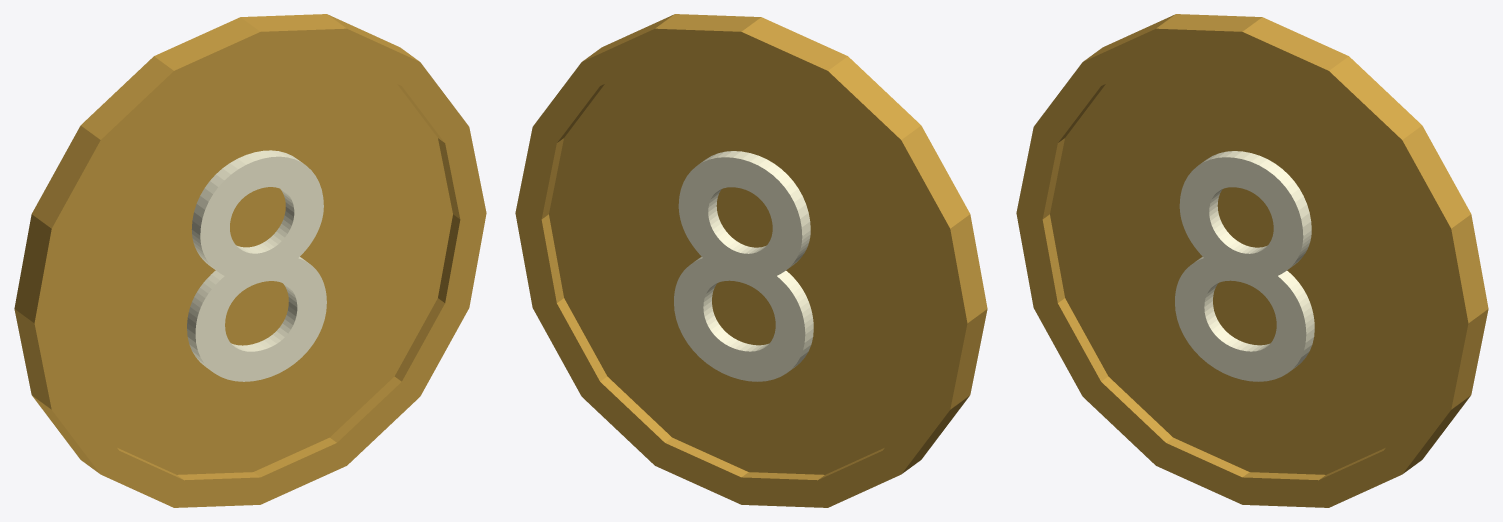
Rendered from Coin8.dae.
3 renders of one model, left to right at view 1: azimuth 30°, elevation 25°; view 2: azimuth 150°, elevation 25°; view 3: azimuth 330°, elevation 25°, orthographic.
Parts seen in each view (by area): view 1: Circle_009, Text_010; view 2: Circle_009, Text_014; view 3: Circle_009, Text_010.
Boxes of the visible parts, x1,y1,x2,y2 form: Circle_009: (14,14,486,507); Text_010: (187,150,326,381); Circle_009: (515,14,987,507); Text_014: (674,151,813,381); Circle_009: (1016,14,1488,507); Text_010: (1175,151,1314,381).
Bounding box in the file's own units: 0.4939 × 0.0429 × 0.4939.
